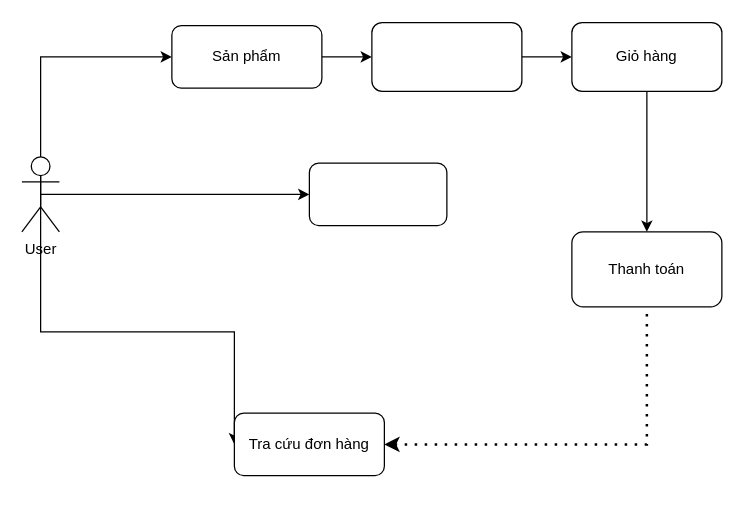
Image size: 744x508. Some labels were removed from this diagram. Each missing label, with the centre of its shape:
Chi tiết sản phẩm: (x=446, y=56)
Liên hệ: (x=377, y=194)
